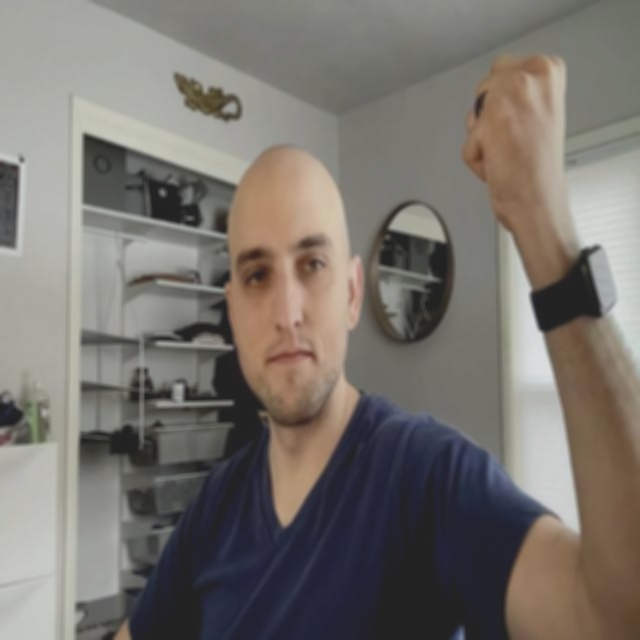Rock: (459, 45, 575, 236)
